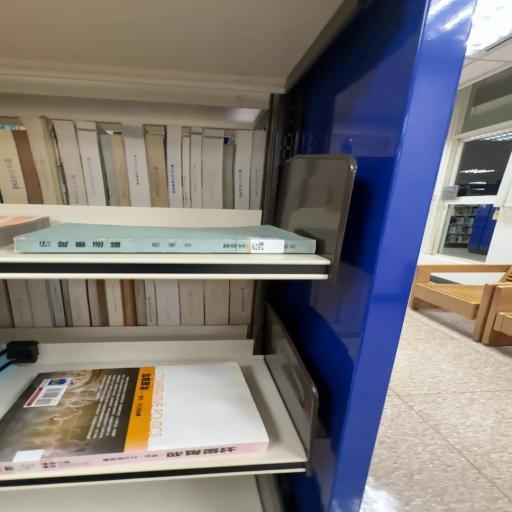flat: (0, 362, 269, 477), (13, 223, 316, 254)
